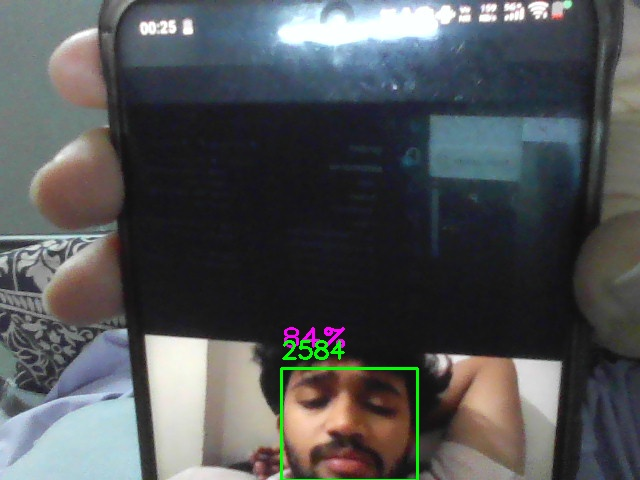fake: (281, 368, 418, 480)
